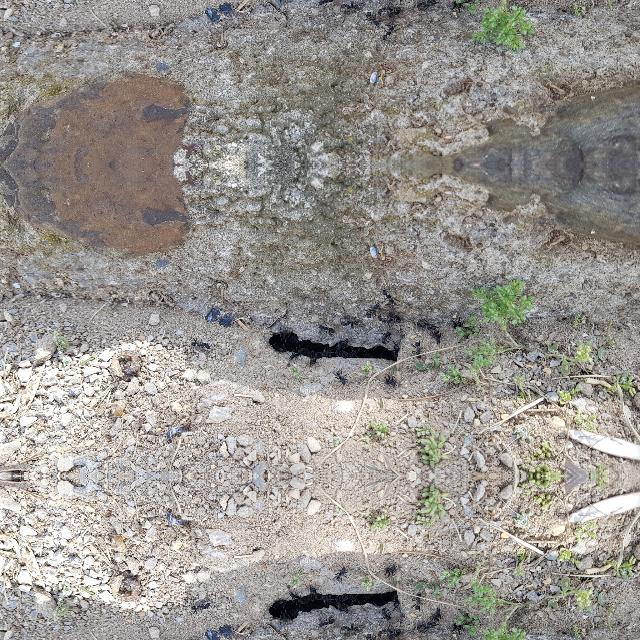Apheanogaster: (379, 288, 398, 304), (379, 24, 398, 40), (389, 338, 403, 358), (389, 592, 403, 612), (362, 302, 381, 316), (362, 12, 381, 26), (408, 340, 426, 354), (408, 596, 426, 610), (278, 324, 290, 342), (278, 608, 290, 626), (334, 350, 354, 360), (334, 590, 354, 600), (430, 329, 444, 343), (430, 607, 444, 621), (376, 312, 392, 324), (376, 4, 392, 16), (376, 626, 392, 638), (190, 340, 213, 348), (190, 602, 213, 610), (316, 323, 336, 332), (447, 320, 465, 330), (447, 620, 465, 630), (414, 321, 436, 329), (414, 621, 436, 629), (334, 372, 351, 382), (334, 337, 351, 347), (334, 568, 351, 578), (334, 603, 351, 613), (276, 343, 288, 357), (276, 593, 288, 607), (341, 318, 361, 326), (388, 311, 404, 321), (380, 375, 396, 385), (316, 618, 336, 626), (341, 2, 361, 10), (341, 624, 361, 632), (388, 7, 404, 17), (388, 629, 404, 639), (380, 565, 396, 575), (414, 0, 436, 6), (382, 330, 394, 340), (308, 354, 320, 364), (360, 634, 380, 640), (382, 610, 394, 620), (308, 586, 320, 596), (447, 0, 465, 6), (320, 346, 330, 356), (320, 594, 330, 604), (249, 398, 263, 404), (249, 546, 263, 552), (316, 0, 336, 4), (287, 352, 299, 358), (287, 592, 299, 598), (278, 0, 290, 4)
